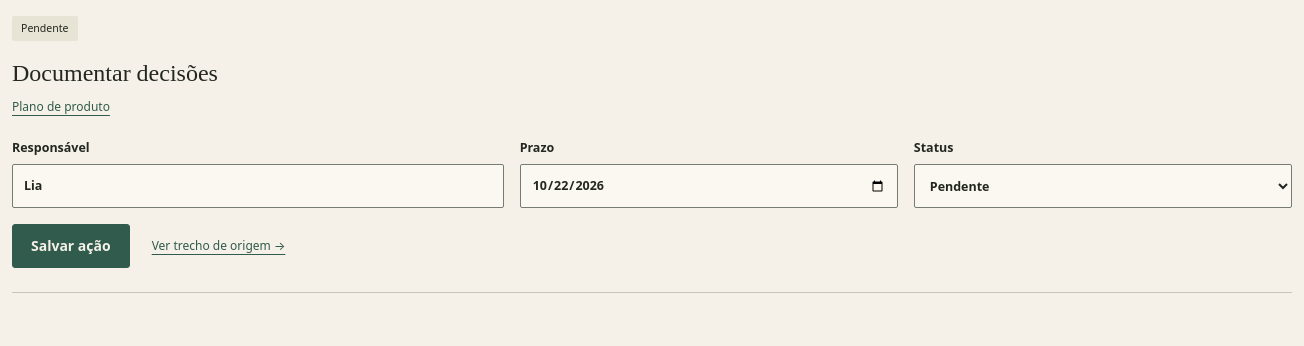
Test: formulários e navegação › salva responsável, data de calendário e status e anuncia o resultado
This screenshot has width=1304, height=346.
Replace the text in the field labelled "Responsável" with "Bia" at x=258, y=186, box [12,164,504,208]
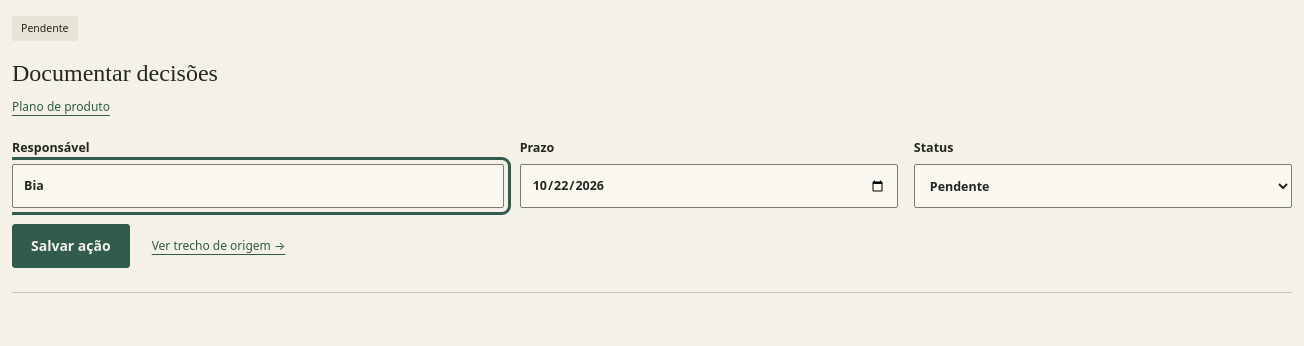
Select "Concluída" in the dropdown labelled "Status" at x=1103, y=186, box [914,164,1292,208]
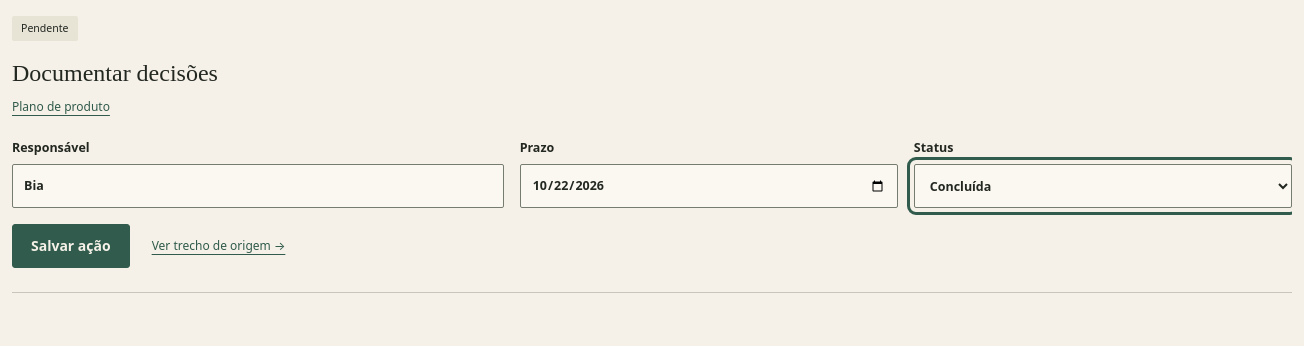
Click the button "Salvar ação" at x=71, y=246, box [12,224,130,268]
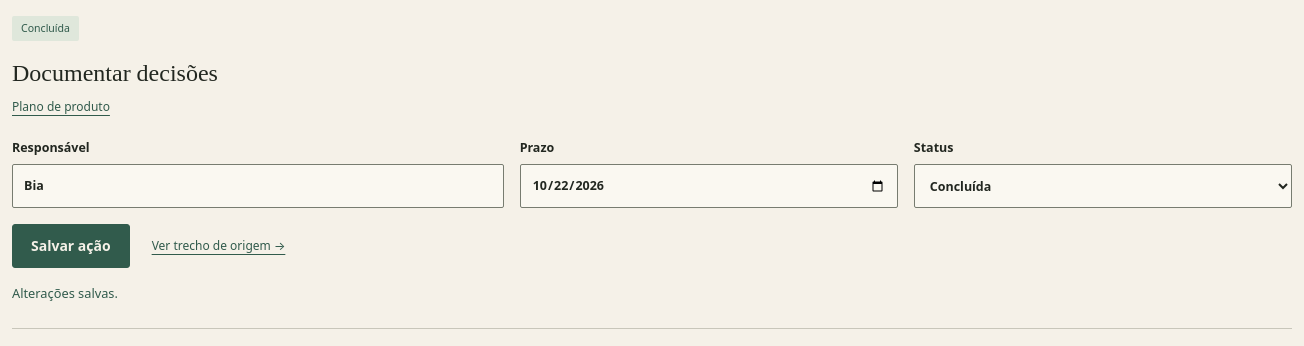
Check: the message reads "Alterações salvas.", box [12,284,118,302]
